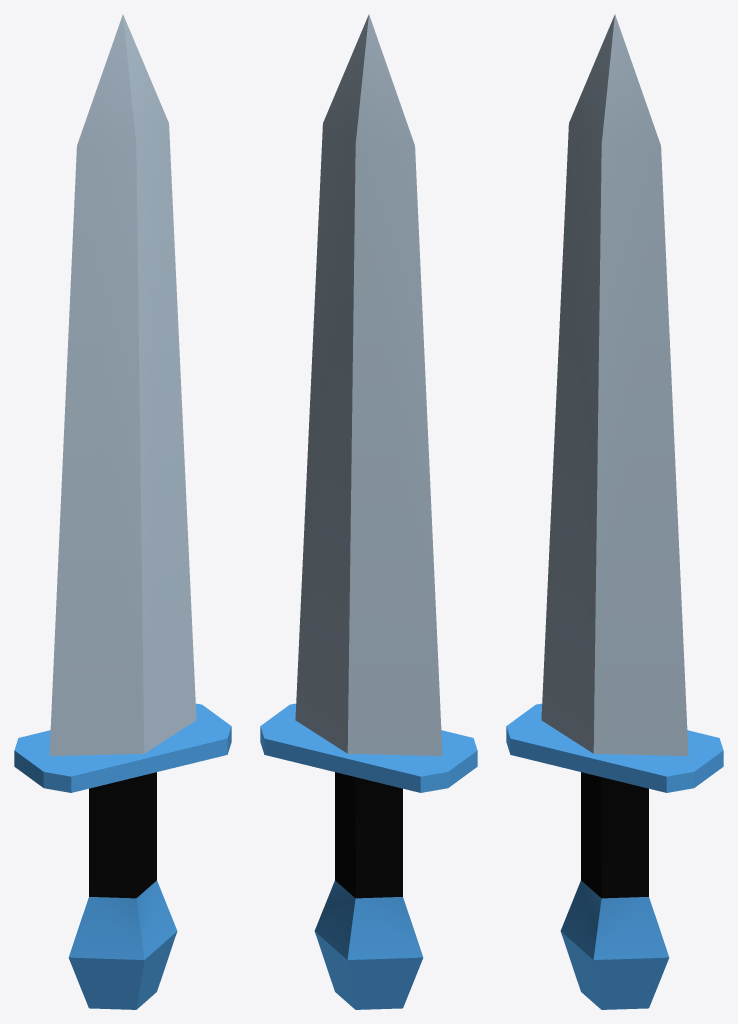
The model's file is Sword1.fbx.
3 views of the same model, side by side, from view 1: azimuth 30°, elevation 25°; view 2: azimuth 150°, elevation 25°; view 3: azimuth 330°, elevation 25° (orthographic).
Visible parts, largest first — view 1: blade_dagger_16, hilt_long_20, guard_19; view 2: blade_dagger_16, hilt_long_20, guard_19; view 3: blade_dagger_16, hilt_long_20, guard_19.
Part boxes in pixels (bbox=[...]): blade_dagger_16: bbox=[49, 14, 196, 756]; hilt_long_20: bbox=[68, 772, 177, 1009]; guard_19: bbox=[14, 703, 231, 792]; blade_dagger_16: bbox=[295, 14, 442, 756]; hilt_long_20: bbox=[314, 772, 423, 1009]; guard_19: bbox=[260, 703, 477, 792]; blade_dagger_16: bbox=[541, 14, 688, 756]; hilt_long_20: bbox=[560, 772, 669, 1009]; guard_19: bbox=[506, 703, 723, 792].
Bounding box in the file's own units: 4.8 × 24.1 × 2.34.
